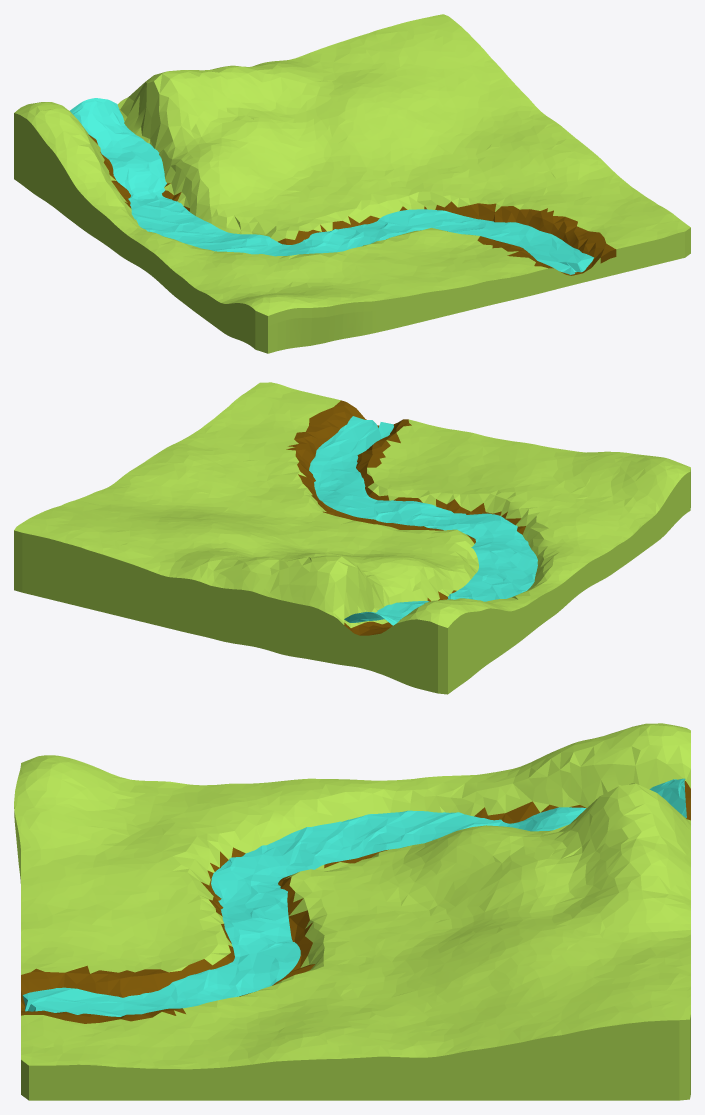
Rendered from backgroundModel.glb.
3 views of the same model, one above another, from view 1: azimuth 30°, elevation 25°; view 2: azimuth 150°, elevation 25°; view 3: azimuth 270°, elevation 25° (orthographic). The views are drawn at different scales.
Visible parts, largest first — view 1: Terrain, Water; view 2: Terrain, Water; view 3: Terrain, Water.
Boxes of the visible parts, x1,y1,x2,y2 form: Terrain: [14, 14, 690, 353]; Water: [70, 98, 593, 274]; Terrain: [14, 382, 690, 694]; Water: [309, 416, 537, 625]; Terrain: [14, 723, 690, 1100]; Water: [22, 778, 686, 1016].
Size of the model in its own units: 29.16 by 5.72 by 29.47.
